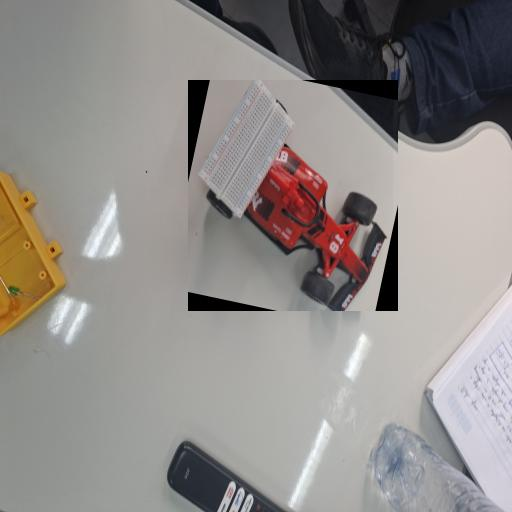carro: (188, 80, 392, 311)
